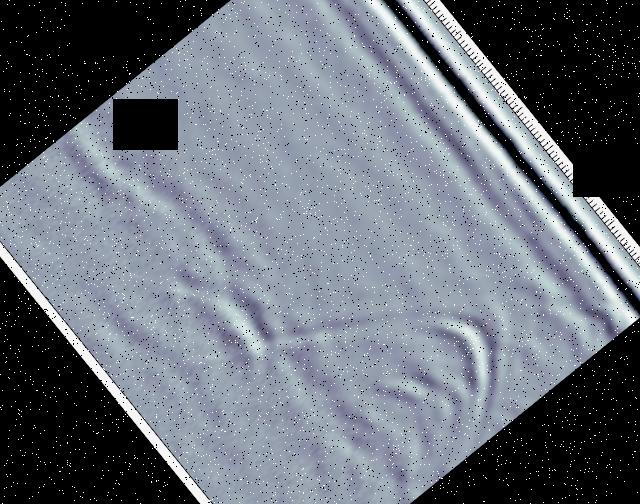Hyperbola: (214, 183, 578, 504)
